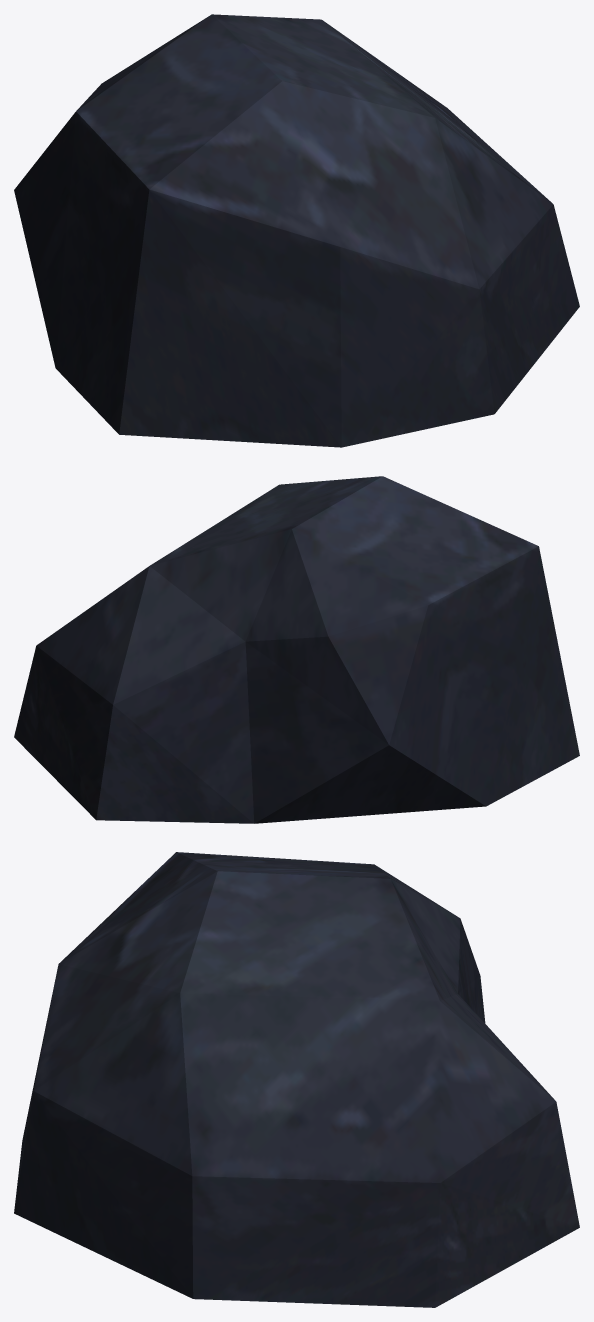
The model's file is mine_rock_02.fbx.
The picture shows the model from 3 angles, top to bottom: view 1: azimuth 30°, elevation 25°; view 2: azimuth 150°, elevation 25°; view 3: azimuth 270°, elevation 25°; orthographic projection. The views are drawn at different scales.
Parts seen in each view (by area): view 1: mine_tileset/rubble_rocks_01_shadow; view 2: mine_tileset/rubble_rocks_01_shadow; view 3: mine_tileset/rubble_rocks_01_shadow.
Boxes of the visible parts, x1,y1,x2,y2 form: mine_tileset/rubble_rocks_01_shadow: (14, 14, 579, 447); mine_tileset/rubble_rocks_01_shadow: (14, 476, 579, 823); mine_tileset/rubble_rocks_01_shadow: (14, 852, 579, 1307).
Bounding box in the file's own units: 1.25 × 0.6912 × 1.23.
